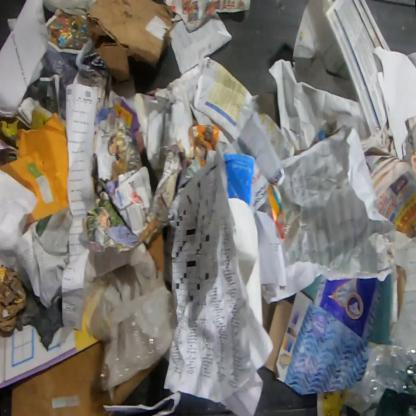cardboard: (276, 274, 382, 396), (9, 341, 164, 415), (0, 310, 99, 388), (85, 0, 175, 85), (368, 264, 408, 345), (262, 296, 293, 376), (146, 229, 166, 275)
soft_plastic: (62, 240, 178, 368), (338, 340, 415, 415), (99, 311, 163, 401), (14, 287, 64, 352)
